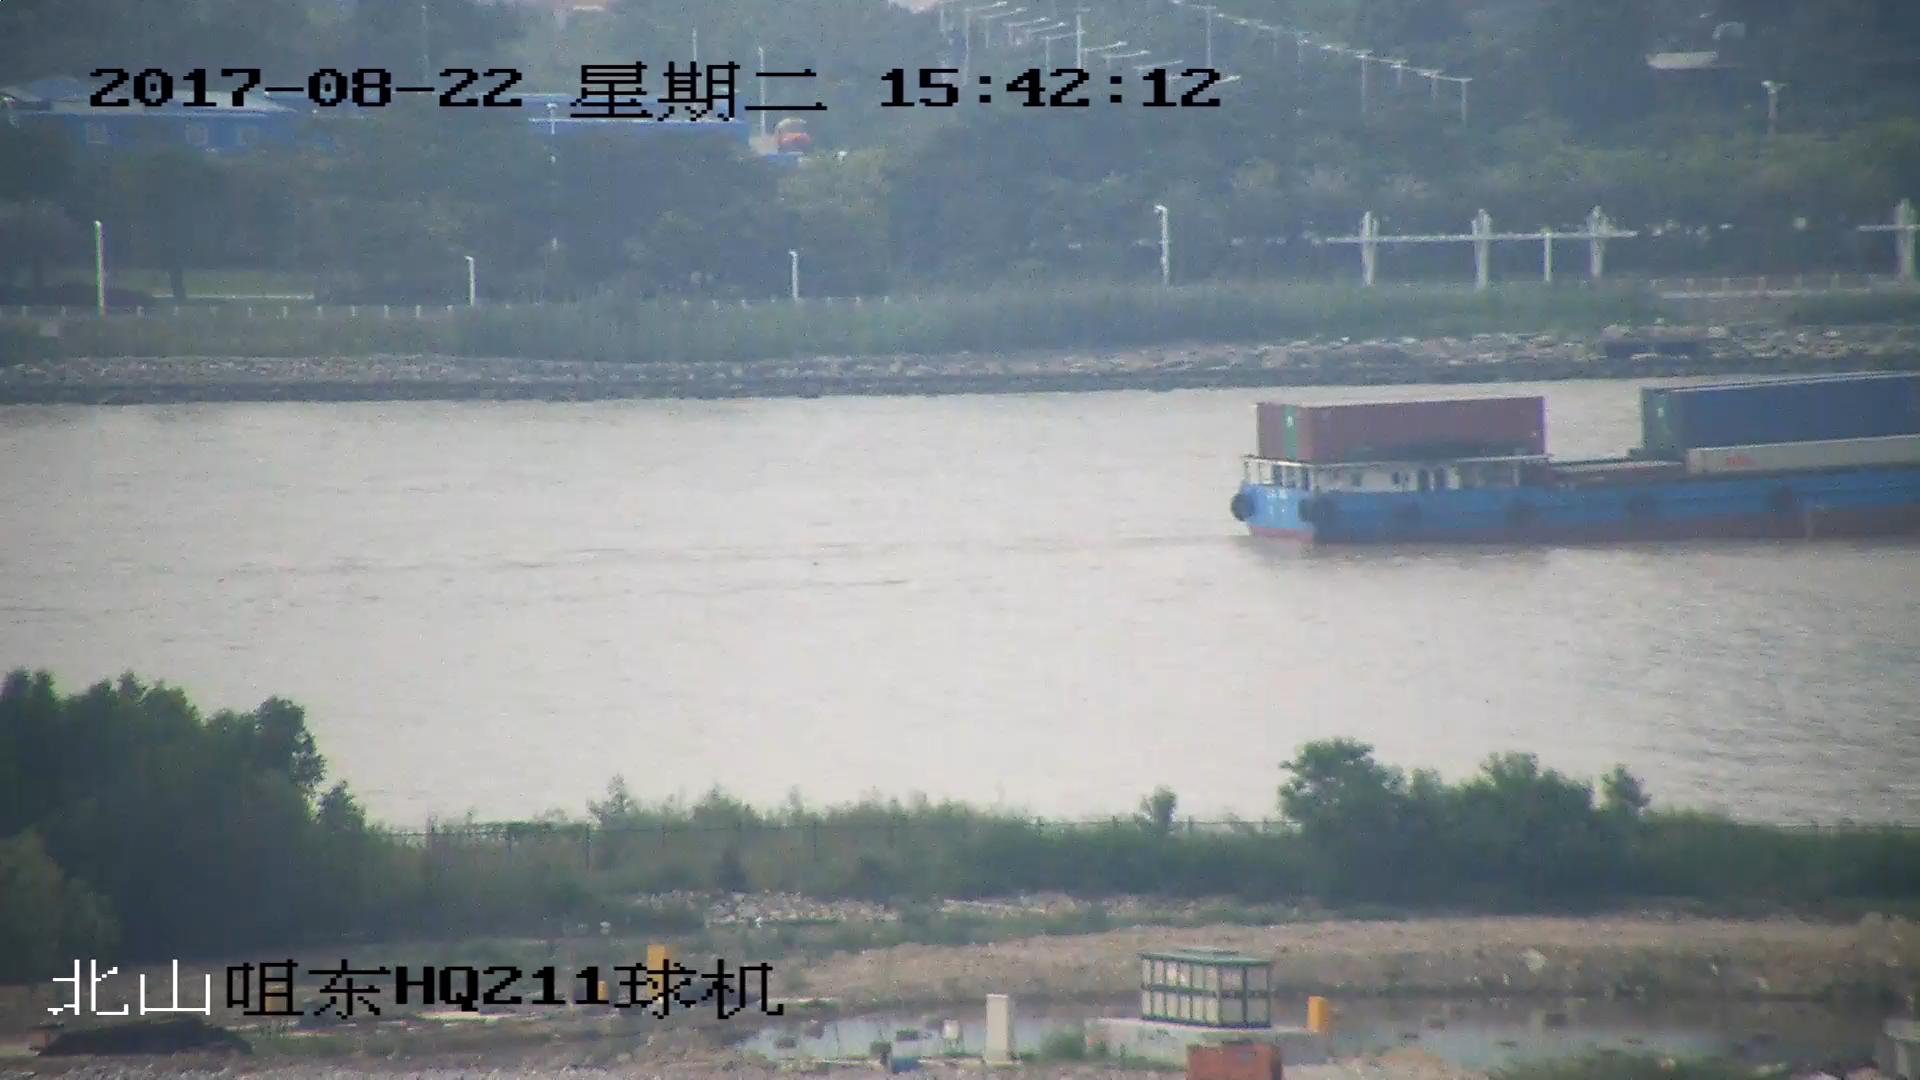container ship: (1232, 378, 1920, 540)
